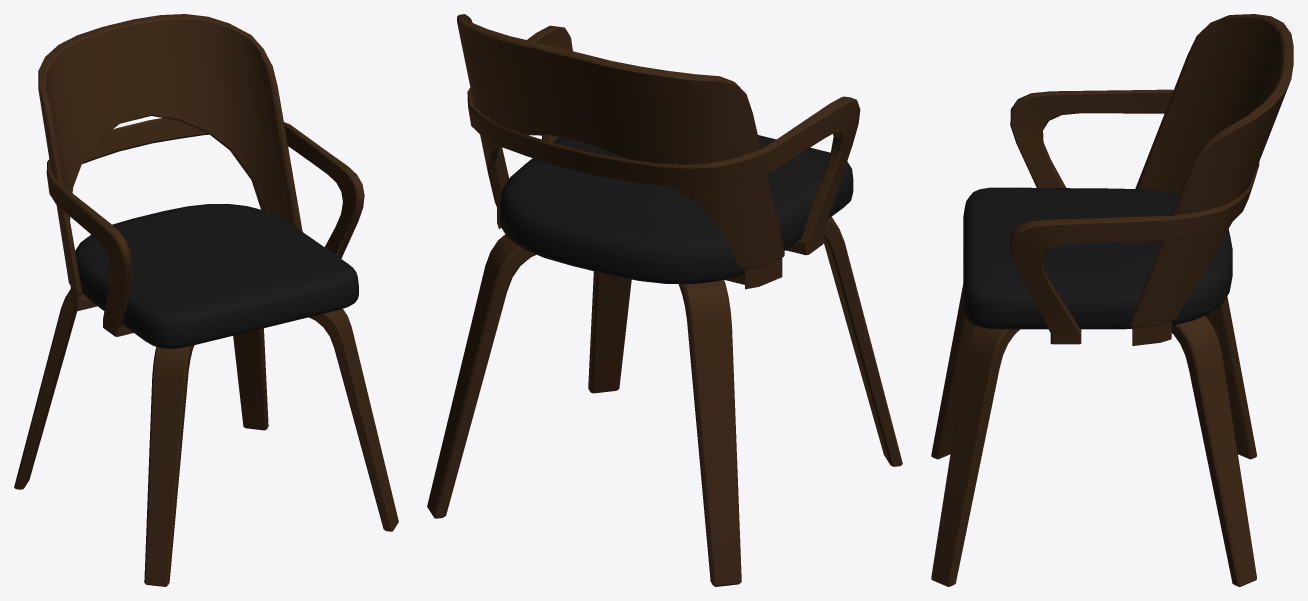
File: h-005_chair_01_F.FBX
3 renders of one model, left to right at view 1: azimuth 30°, elevation 25°; view 2: azimuth 150°, elevation 25°; view 3: azimuth 270°, elevation 25°, orthographic. The views are drawn at different scales.
Parts seen in each view (by area): view 1: h-005_chair_01; view 2: h-005_chair_01; view 3: h-005_chair_01.
Part boxes in pixels (box(x1,y1,x2,y2)): h-005_chair_01: box(14, 14, 398, 586); h-005_chair_01: box(427, 14, 902, 586); h-005_chair_01: box(931, 14, 1293, 586).
Bounding box in the file's own units: 8.47 × 13.35 × 9.42.
